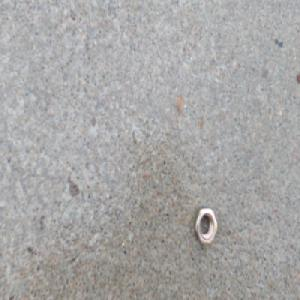Nut: (193, 205, 218, 247)
